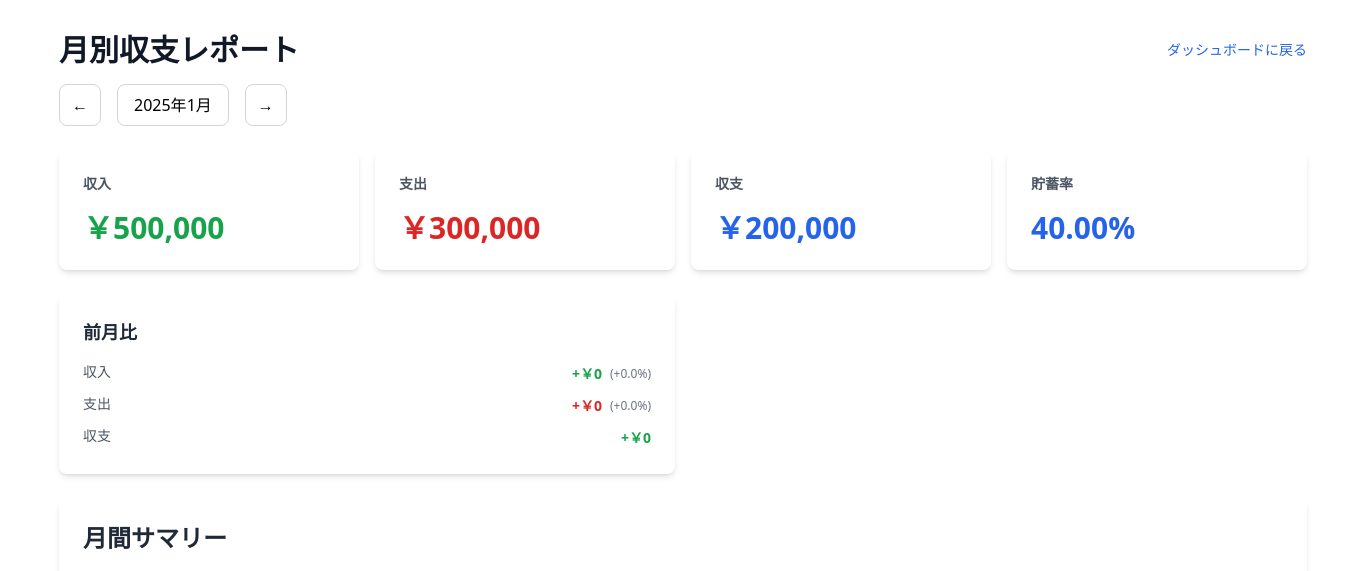
it: MonthlyBalanceReportPage › 月選択ボタンをクリックするとモーダルが表示される
Expected: the heading "月別収支レポート" is shown, [59,32,299,68]
# 月選択ボタンをクリック
Click the button "2025年1月". click: (173, 105)
box: [117,84,229,126]
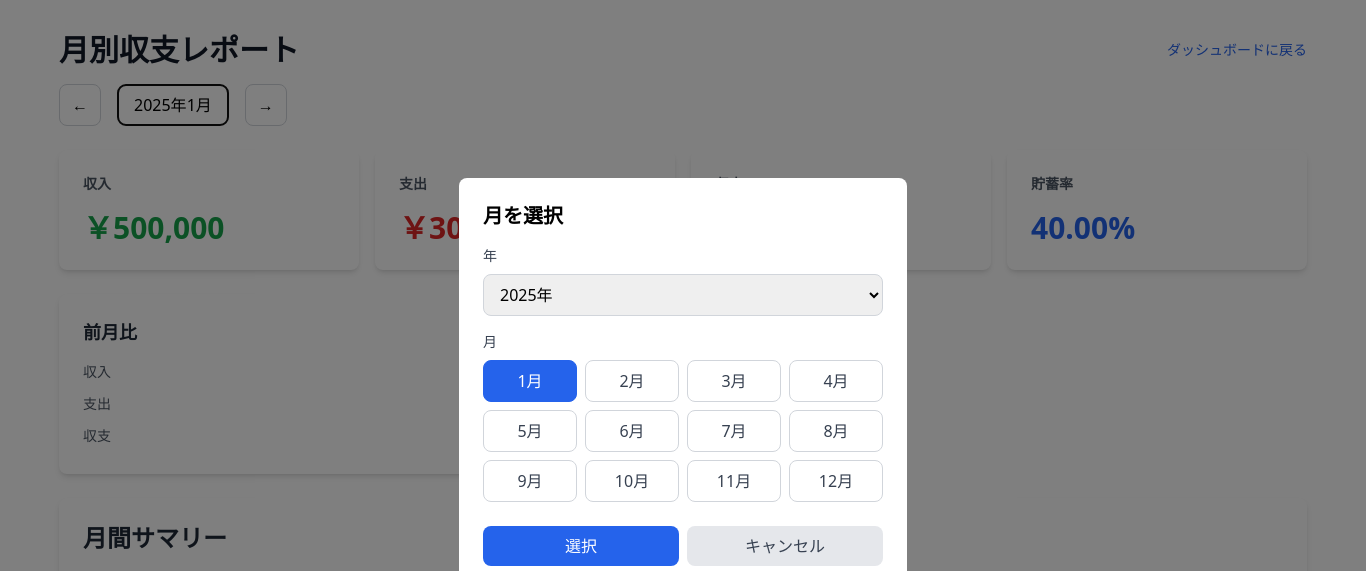
Now the heading "月を選択" is shown, box [483,202,563,229]
